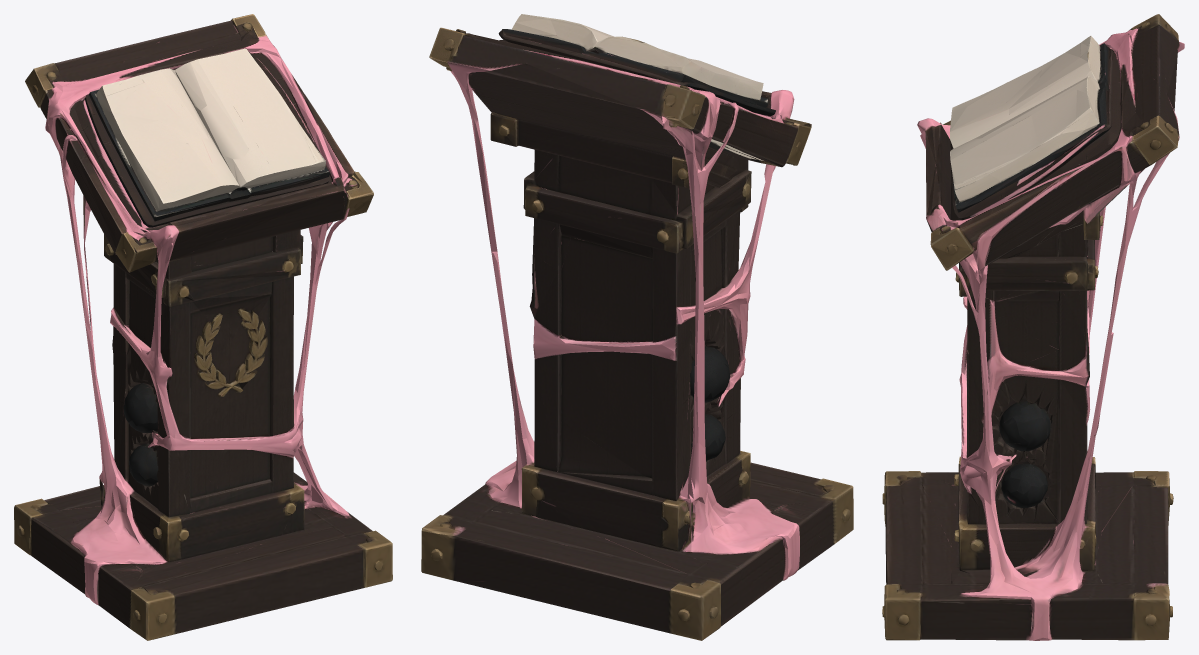
3 views of the same model, side by side, from view 1: azimuth 30°, elevation 25°; view 2: azimuth 150°, elevation 25°; view 3: azimuth 270°, elevation 25° (orthographic). The views are drawn at different scales.
Size of the model in its own units: 1.06 by 1.9 by 1.02.
1 material, 1 textured.
